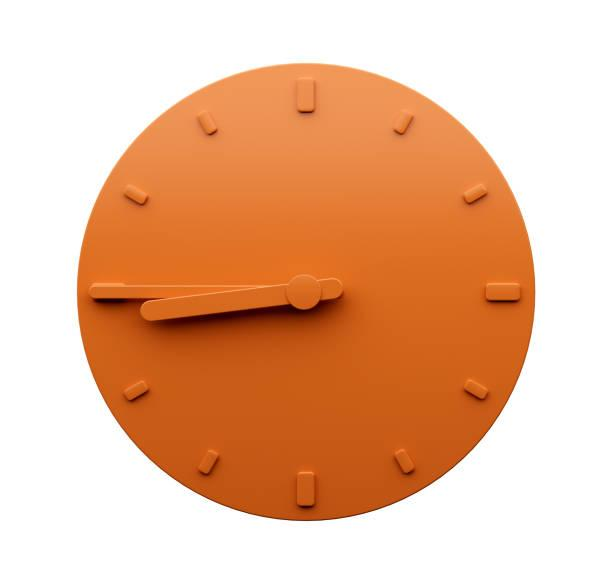clock: (71, 52, 546, 539)
